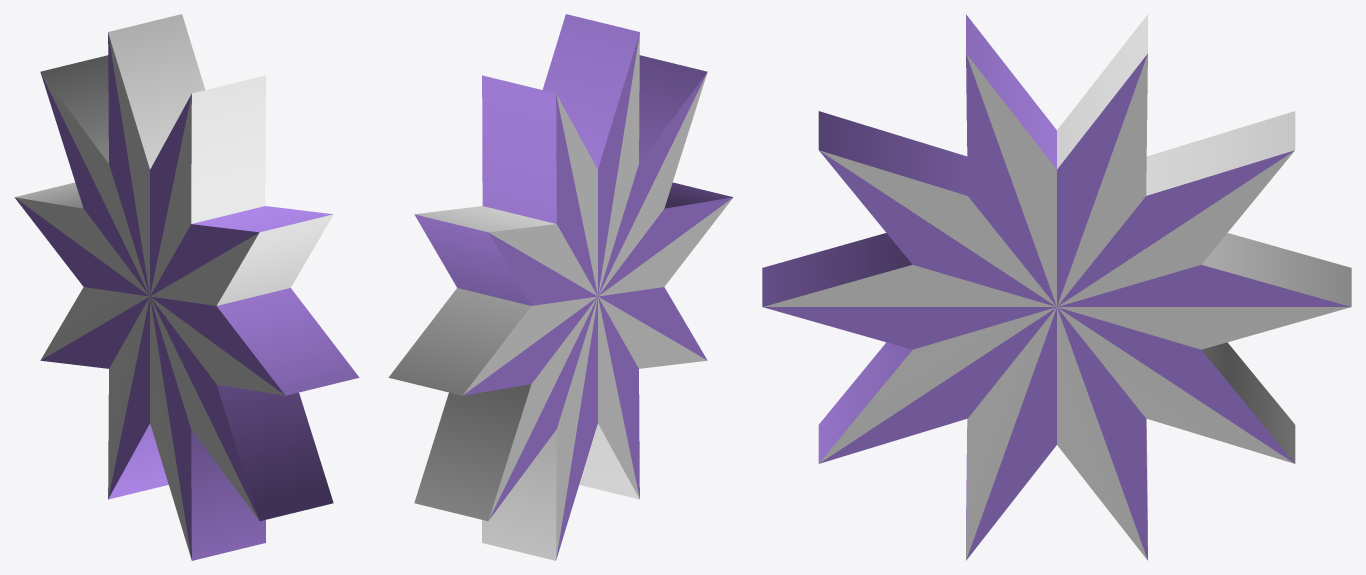
The model's file is scramblestripes.fbx.
The picture shows the model from 3 angles, left to right: view 1: azimuth 30°, elevation 25°; view 2: azimuth 150°, elevation 25°; view 3: azimuth 270°, elevation 25°; orthographic projection. The views are drawn at different scales.
Parts seen in each view (by area): view 1: pCylinder7; view 2: pCylinder7; view 3: pCylinder7.
Boxes of the visible parts, <box> form: pCylinder7: <box>14,14,359,560</box>; pCylinder7: <box>388,14,733,560</box>; pCylinder7: <box>762,14,1351,560</box>.
Bounding box in the file's own units: 0.3165 × 1.9 × 2.
